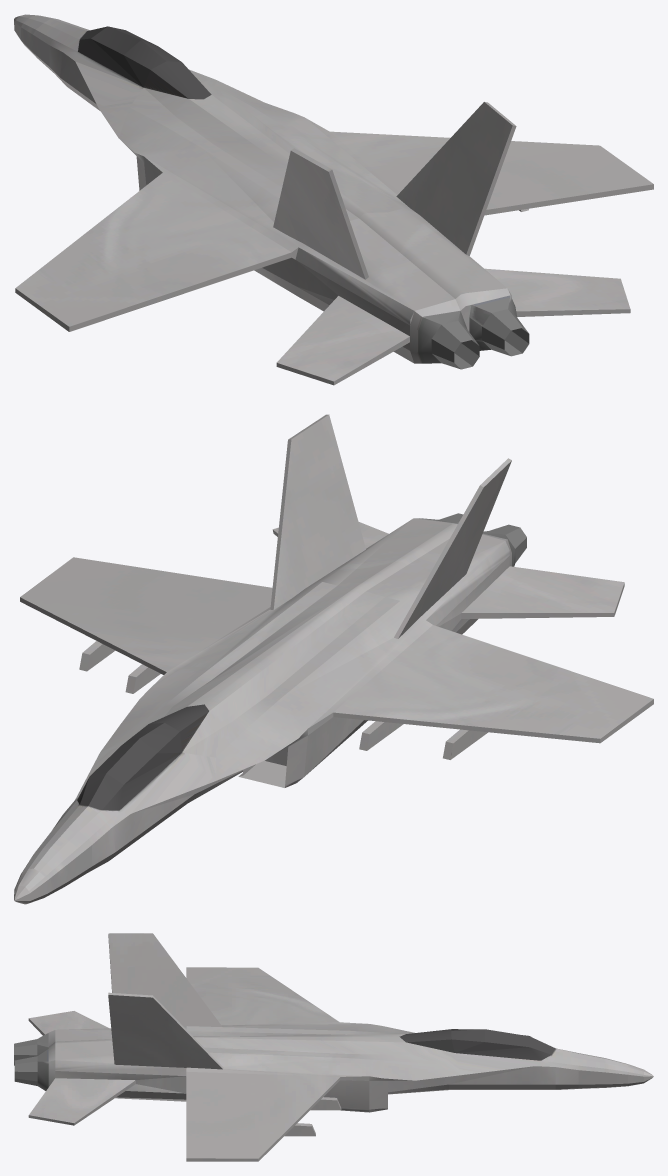
The picture shows the model from 3 angles, top to bottom: view 1: azimuth 30°, elevation 25°; view 2: azimuth 150°, elevation 25°; view 3: azimuth 270°, elevation 25°; orthographic projection. The views are drawn at different scales.
Parts seen in each view (by area): view 1: Jet_02_Body; view 2: Jet_02_Body; view 3: Jet_02_Body.
Part boxes in pixels (<box>): Jet_02_Body: <box>14,14,653,385</box>; Jet_02_Body: <box>14,414,653,904</box>; Jet_02_Body: <box>14,933,653,1161</box>.
Bounding box in the file's own units: 1.14 × 0.3606 × 1.62.
1 material, 1 textured.
